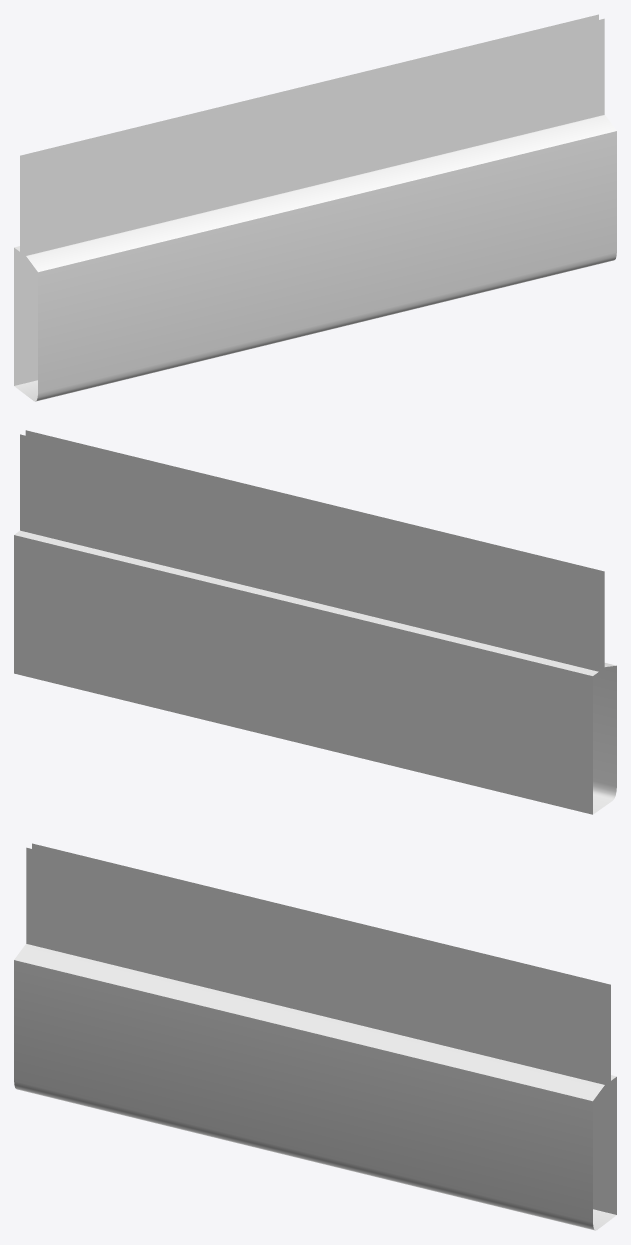
Rendered from original-44.obj.
3 views of the same model, one above another, from view 1: azimuth 30°, elevation 25°; view 2: azimuth 150°, elevation 25°; view 3: azimuth 330°, elevation 25° (orthographic).
Visible parts, largest first — view 1: RT_21_BC1/RT_21_BC/mesh36/mesh36-geometry#mesh36-geometry; view 2: RT_21_BC1/RT_21_BC/mesh36/mesh36-geometry#mesh36-geometry; view 3: RT_21_BC1/RT_21_BC/mesh36/mesh36-geometry#mesh36-geometry.
Boxes of the visible parts, bbox=[...] form: RT_21_BC1/RT_21_BC/mesh36/mesh36-geometry#mesh36-geometry: bbox=[14, 14, 616, 401]; RT_21_BC1/RT_21_BC/mesh36/mesh36-geometry#mesh36-geometry: bbox=[14, 430, 616, 814]; RT_21_BC1/RT_21_BC/mesh36/mesh36-geometry#mesh36-geometry: bbox=[14, 843, 616, 1230].
Size of the model in its own units: 0.3763 by 0.1462 by 0.0271.
